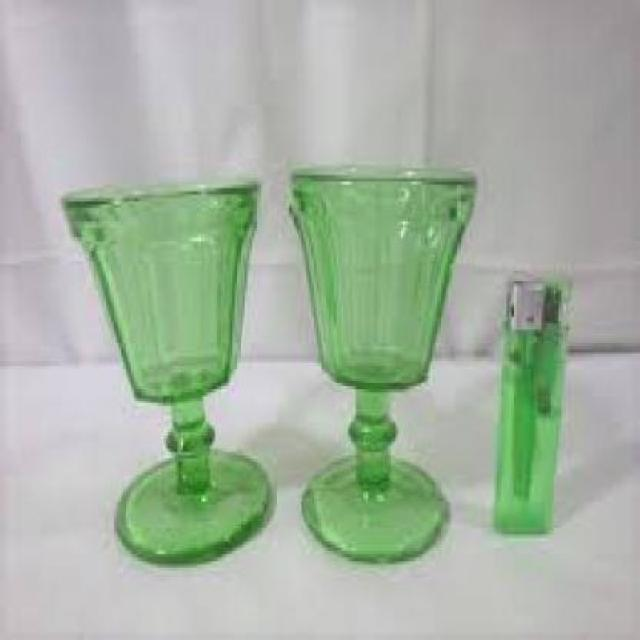kaca: (57, 178, 272, 564), (286, 164, 472, 562)
